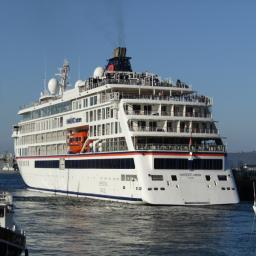cruises: (12, 47, 242, 211)
